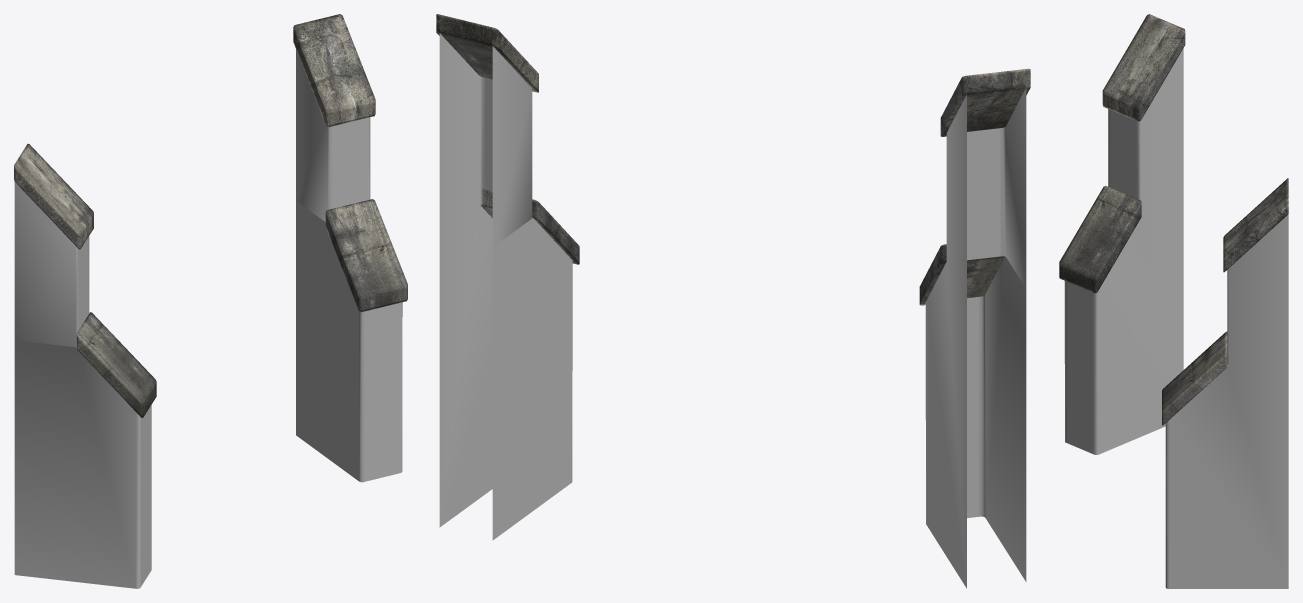
File: SM_Support_01.FBX
The picture shows the model from 3 angles, left to right: view 1: azimuth 30°, elevation 25°; view 2: azimuth 150°, elevation 25°; view 3: azimuth 270°, elevation 25°; orthographic projection. The views are drawn at different scales.
Visible parts, largest first — view 1: SM_Support_01; view 2: SM_Support_01; view 3: SM_Support_01.
Part boxes in pixels (x1=…): SM_Support_01: x1=14, y1=14, x2=407, y2=588; SM_Support_01: x1=436, y1=14, x2=1030, y2=588; SM_Support_01: x1=1059, y1=14, x2=1288, y2=588.
Size of what is drawn, in the model's own units: 917 by 478 by 896.
